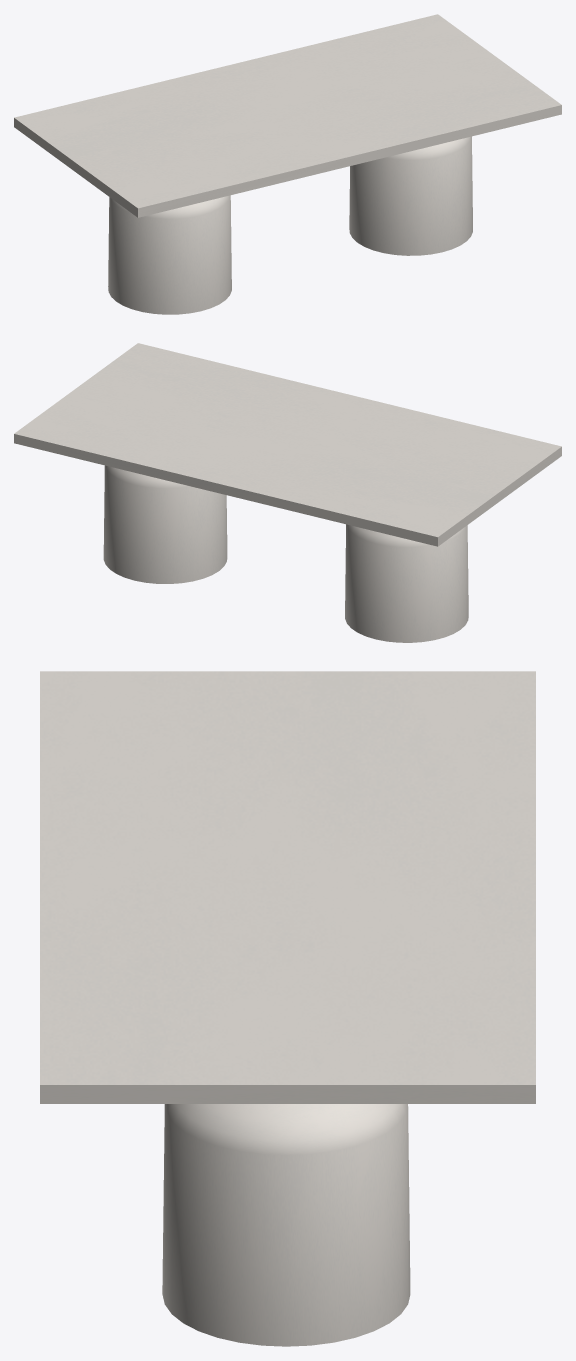
Rendered from pearlwhite_recta_standard_ridge.glb.
3 renders of one model, top to bottom at view 1: azimuth 30°, elevation 25°; view 2: azimuth 150°, elevation 25°; view 3: azimuth 270°, elevation 25°, orthographic. The views are drawn at different scales.
Visible parts, largest first — view 1: tabletop_recta_standard.004, tableleg_tornado.018; view 2: tabletop_recta_standard.004, tableleg_tornado.018; view 3: tabletop_recta_standard.004, tableleg_tornado.018.
Part boxes in pixels (x1,y1,x2,y2): tabletop_recta_standard.004: [14, 14, 561, 217]; tableleg_tornado.018: [108, 136, 472, 314]; tabletop_recta_standard.004: [14, 343, 561, 546]; tableleg_tornado.018: [103, 465, 468, 642]; tabletop_recta_standard.004: [40, 671, 535, 1103]; tableleg_tornado.018: [162, 1104, 410, 1346].
Bounding box in the file's own units: 7.5 × 2.5 × 3.8.
Materials: 1 (1 with a texture image).
